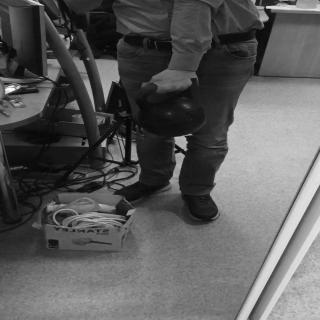kettlebell: (131, 80, 210, 140)
